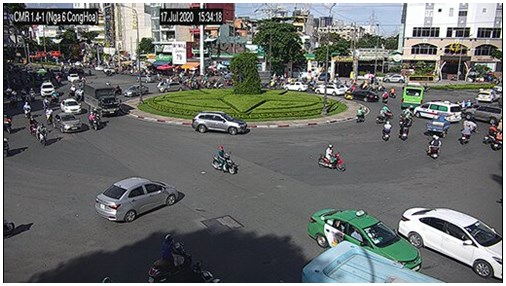xe_cuu_thuong: (413, 101, 463, 122)
xe_hoi: (398, 207, 503, 280), (308, 207, 420, 272), (94, 176, 181, 221), (190, 111, 247, 135), (462, 104, 502, 123), (52, 113, 81, 134), (349, 88, 378, 102), (59, 98, 81, 113), (315, 86, 345, 96), (122, 84, 146, 96), (284, 81, 308, 92), (159, 82, 184, 91), (384, 72, 403, 83), (39, 82, 55, 95), (477, 90, 495, 101), (66, 73, 78, 79)
xe_may: (148, 232, 190, 281), (211, 146, 237, 176), (319, 144, 343, 172), (190, 260, 219, 283), (426, 135, 441, 160), (35, 123, 47, 144), (482, 125, 495, 144), (401, 106, 413, 125), (493, 128, 502, 152), (28, 115, 38, 136), (460, 123, 470, 143), (381, 120, 390, 142), (1, 136, 10, 157), (356, 105, 367, 122), (2, 113, 11, 133), (398, 120, 407, 140), (466, 117, 476, 135), (381, 104, 392, 119), (375, 108, 386, 122), (22, 102, 30, 120)
xe_tai: (83, 82, 119, 117)
